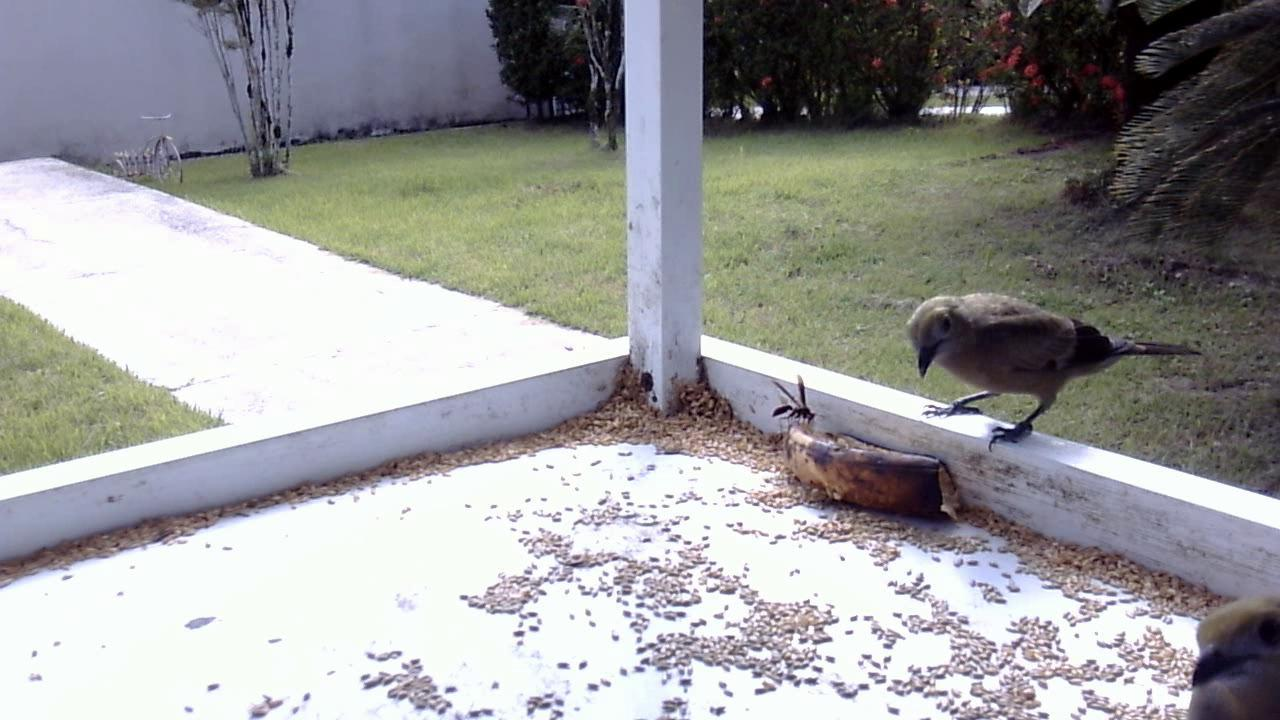sanhaco_do_coqueiro: (906, 283, 1205, 461), (1157, 567, 1278, 720)
